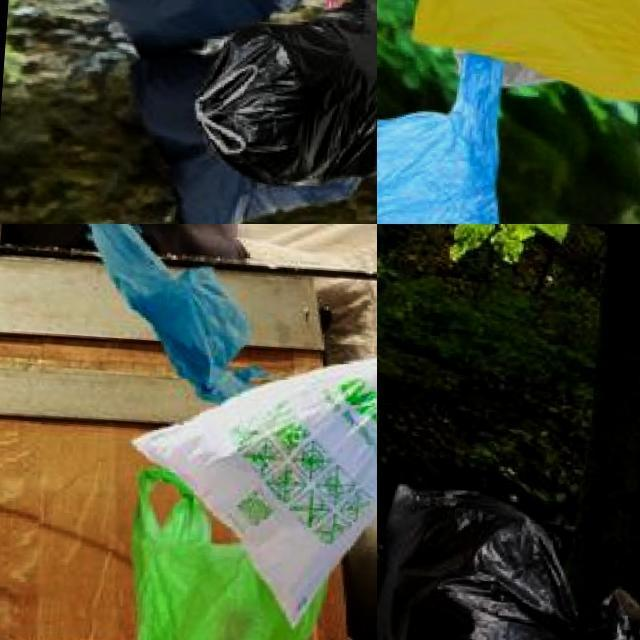waste: (135, 342, 377, 622), (377, 481, 640, 640), (197, 0, 377, 199), (128, 477, 324, 640), (377, 39, 530, 224), (405, 0, 640, 113), (55, 0, 327, 51)
